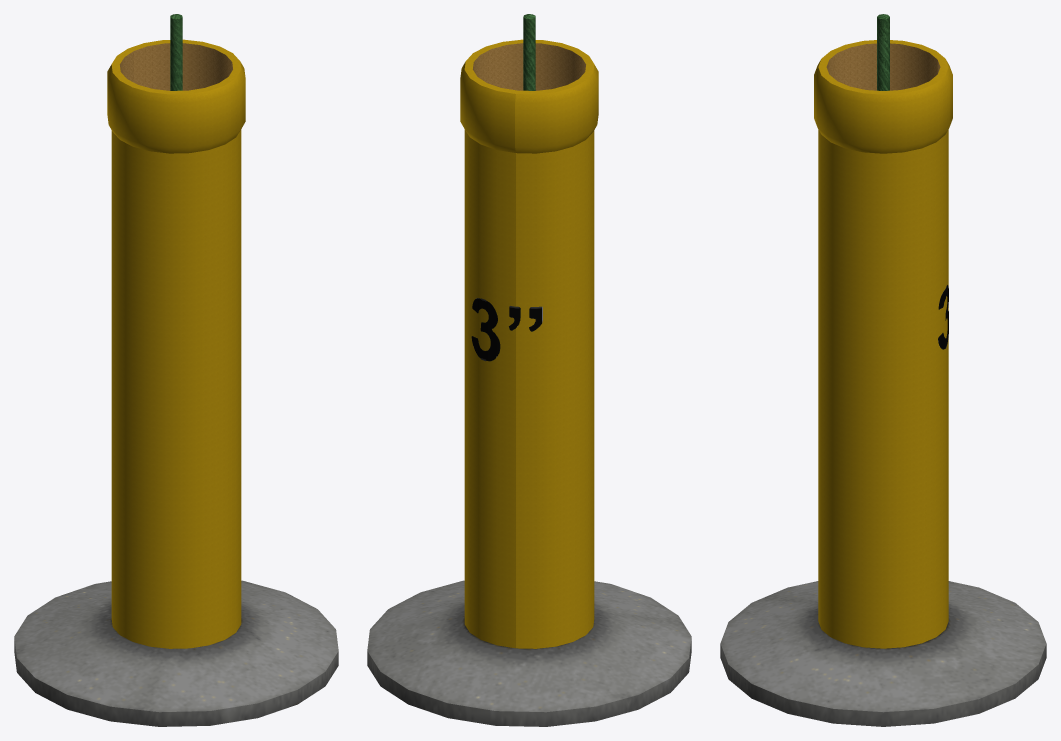
The model's file is firework_013.FBX.
The picture shows the model from 3 angles, left to right: view 1: azimuth 30°, elevation 25°; view 2: azimuth 150°, elevation 25°; view 3: azimuth 270°, elevation 25°; orthographic projection.
Parts seen in each view (by area): view 1: firework_013_02, firework_013_03, firework_013_04, firework_013_01; view 2: firework_013_02, firework_013_03, firework_013_04, firework_013_05, firework_013_01; view 3: firework_013_02, firework_013_03, firework_013_04, firework_013_01.
Part boxes in pixels (bbox=[...]): firework_013_02: bbox=[107, 39, 245, 648]; firework_013_03: bbox=[14, 580, 338, 726]; firework_013_04: bbox=[120, 43, 232, 90]; firework_013_01: bbox=[170, 14, 182, 90]; firework_013_02: bbox=[460, 39, 598, 648]; firework_013_03: bbox=[367, 580, 691, 726]; firework_013_04: bbox=[473, 43, 585, 90]; firework_013_05: bbox=[471, 298, 542, 361]; firework_013_01: bbox=[523, 14, 535, 90]; firework_013_02: bbox=[814, 40, 952, 648]; firework_013_03: bbox=[720, 581, 1046, 726]; firework_013_04: bbox=[826, 43, 940, 90]; firework_013_01: bbox=[877, 14, 889, 90].
Bounding box in the file's own units: 2 × 4.35 × 2.
